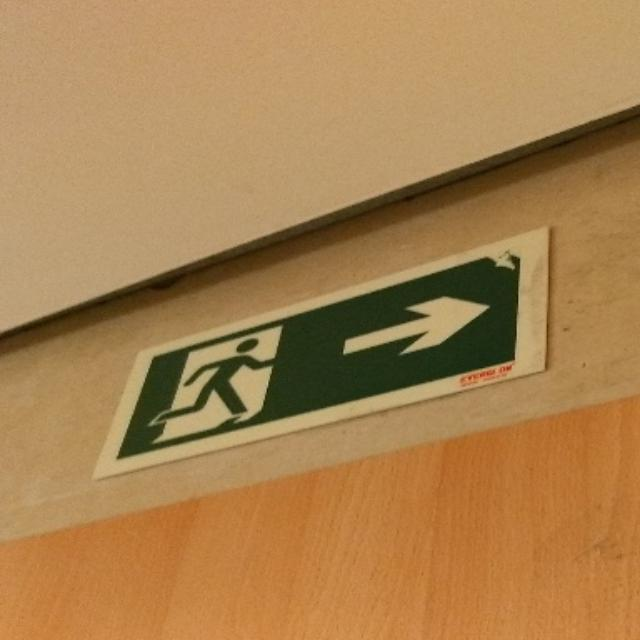exit: (93, 228, 547, 477)
